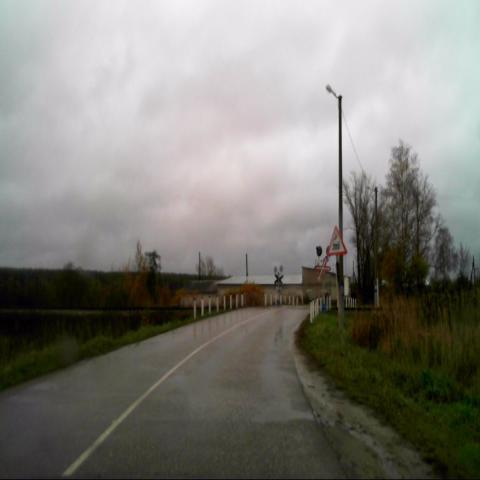1_2: (327, 225, 348, 255)
